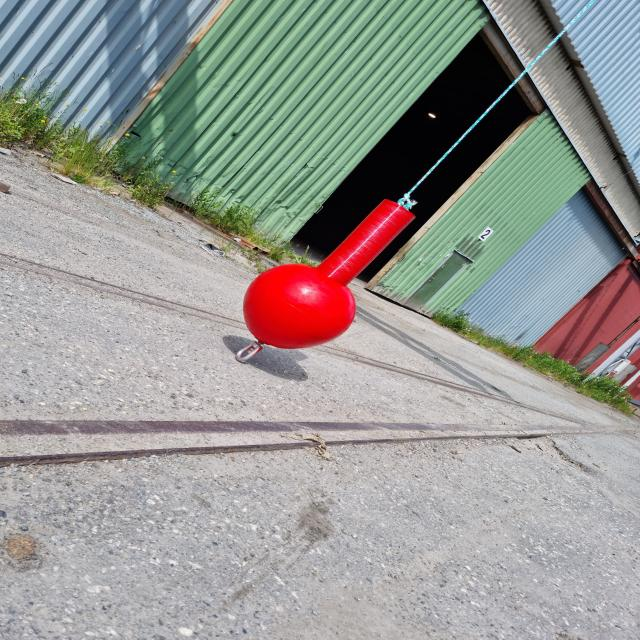red: (242, 199, 418, 349)
